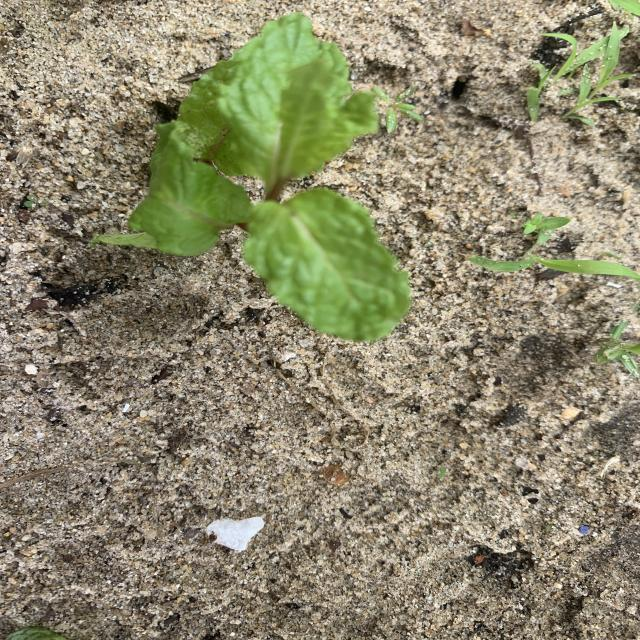crop: (92, 13, 409, 342)
weed: (564, 24, 624, 117), (466, 251, 640, 282), (526, 33, 578, 122), (374, 87, 422, 133), (604, 320, 640, 379), (523, 213, 570, 244), (437, 465, 450, 484)
